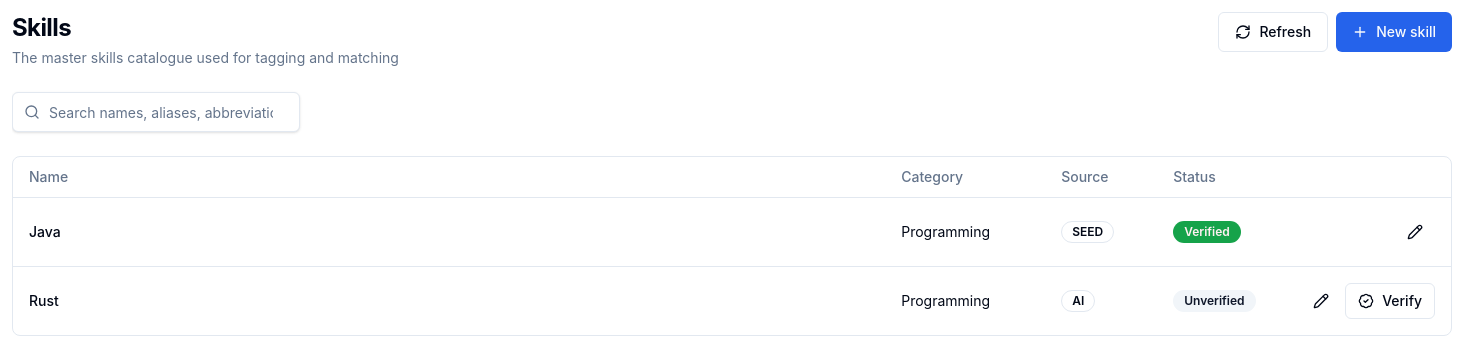
SkillsPage › searches through the catalogue endpoint rather than filtering locally
Expected: the text "Java" is shown, x1=29 y1=222 x2=61 y2=240
Type "jdk" into the search field named "Search skills".
click(156, 112); type("jdk")  # box x1=12 y1=92 x2=300 y2=132
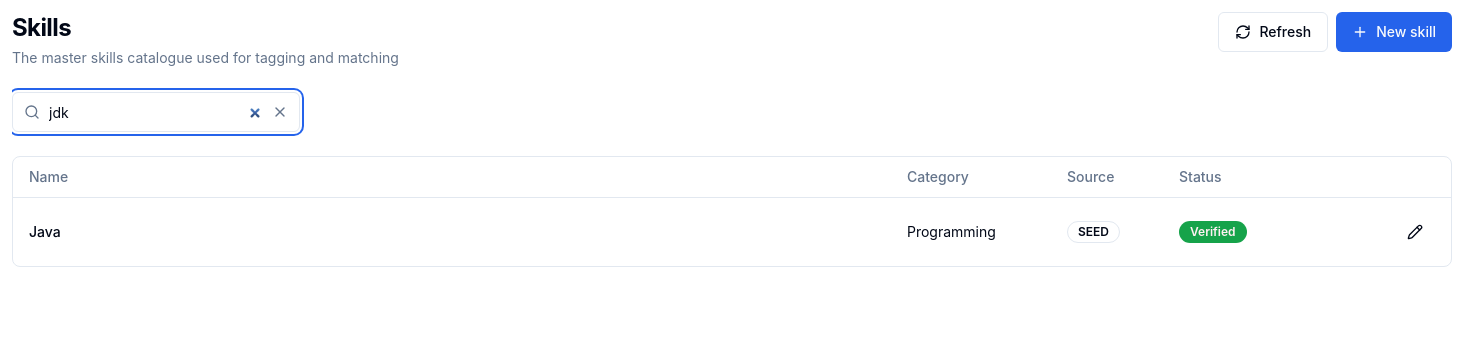
Expected: the text "Java" is shown, x1=29 y1=222 x2=61 y2=240
Expected: the text "Rust" is gone
